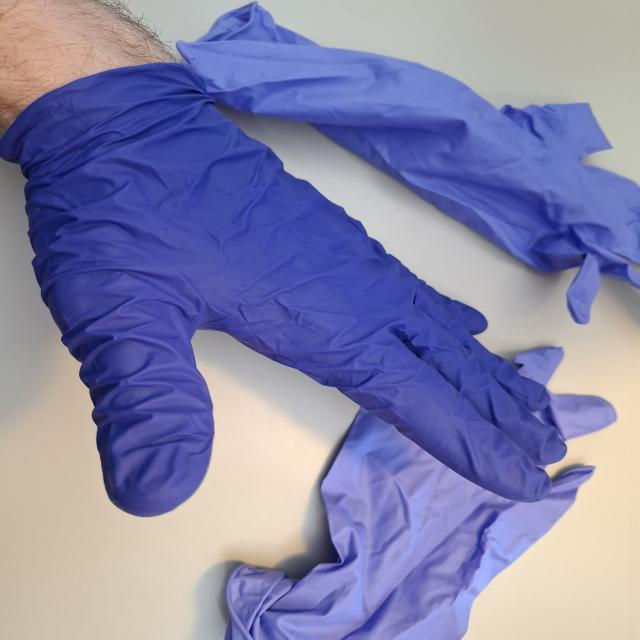glove_on: (0, 61, 570, 518)
